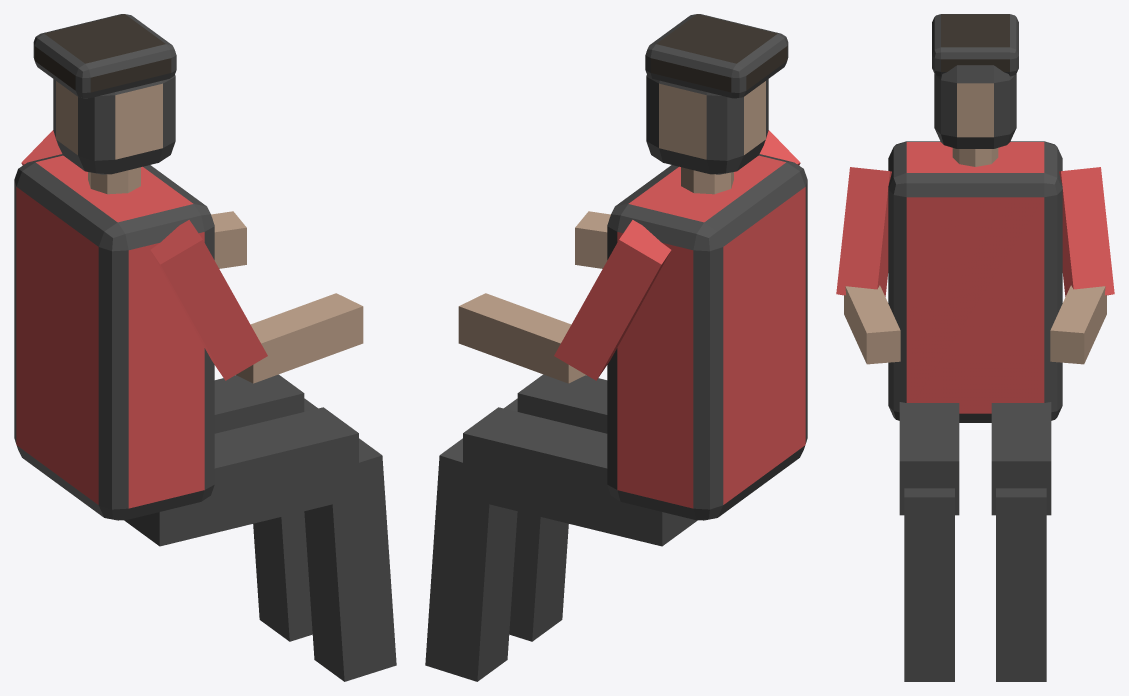
The model's file is SM_CrowdSeated.fbx.
The picture shows the model from 3 angles, left to right: view 1: azimuth 30°, elevation 25°; view 2: azimuth 150°, elevation 25°; view 3: azimuth 270°, elevation 25°; orthographic projection. The views are drawn at different scales.
Visible parts, largest first — view 1: SM_CrowdSeated; view 2: SM_CrowdSeated; view 3: SM_CrowdSeated.
Boxes of the visible parts, bbox=[...] form: SM_CrowdSeated: bbox=[14, 14, 396, 681]; SM_CrowdSeated: bbox=[425, 14, 807, 681]; SM_CrowdSeated: bbox=[836, 14, 1114, 681].
Size of the model in its own units: 0.6299 by 1.33 by 0.6069.
